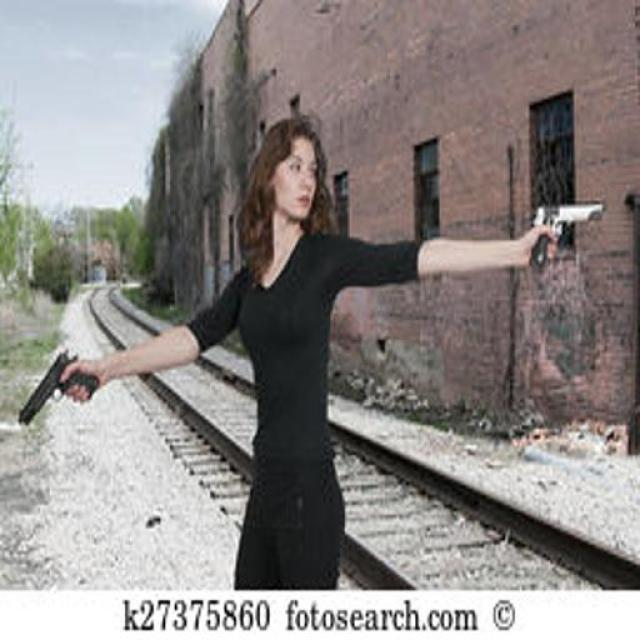pistol: (14, 349, 104, 435), (528, 200, 606, 266)
